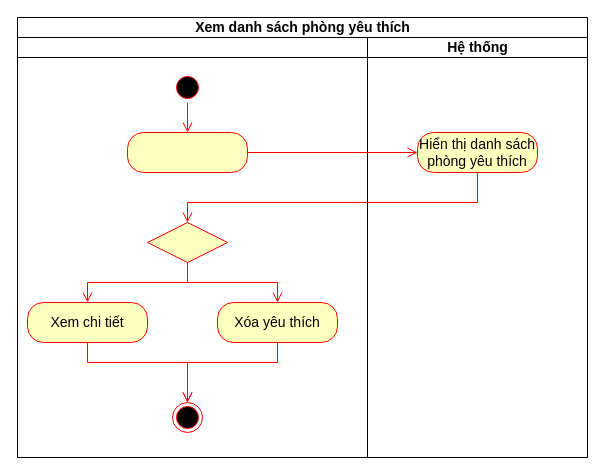
Image size: 605x475. Some labels were removed from this diagram. Here are the shapes that lost their labels. From the top down, the box of each, then its label:
(126, 132, 248, 172): Truy cập trang phòng yêu thích
(16, 36, 368, 458): Du khách
